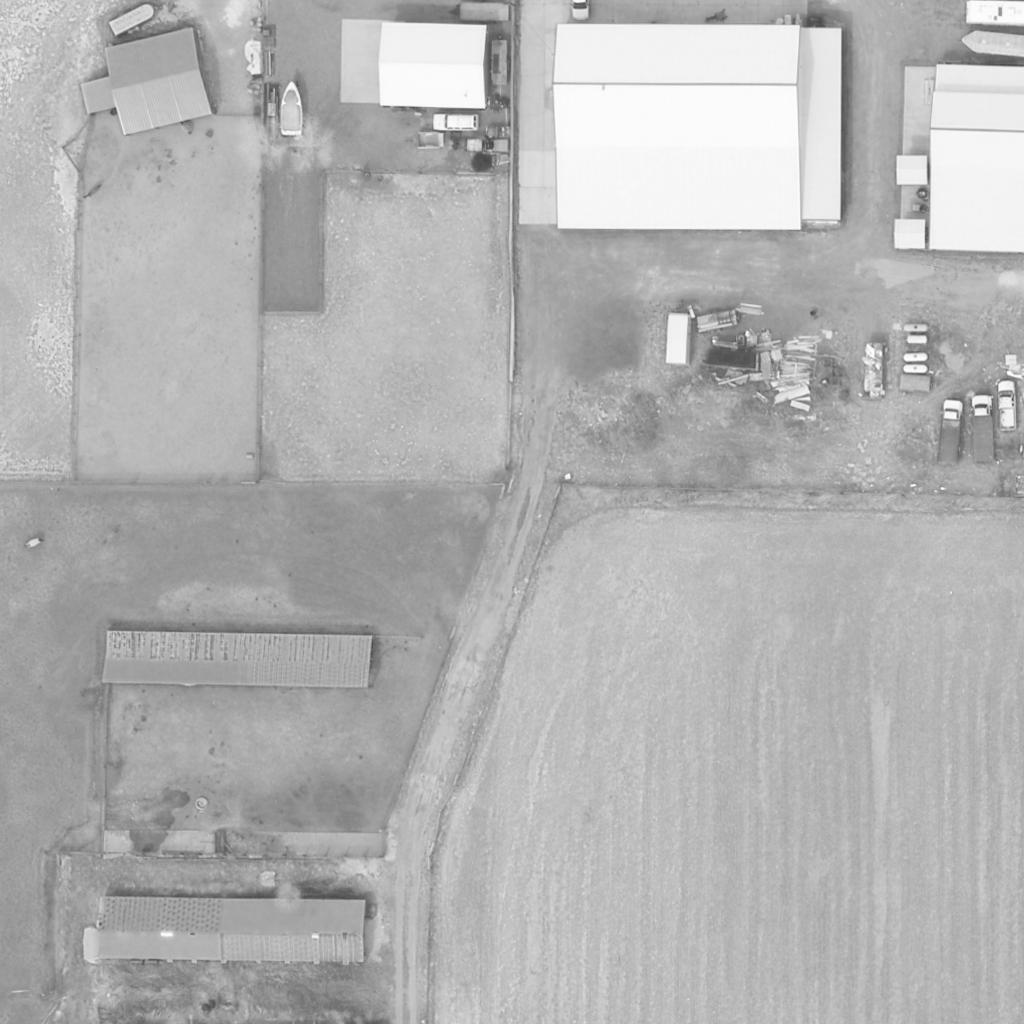vehicle: (937, 401, 963, 467), (277, 82, 305, 138), (973, 397, 995, 463), (966, 2, 1024, 26), (667, 313, 691, 367), (998, 383, 1018, 431), (433, 114, 479, 132)
